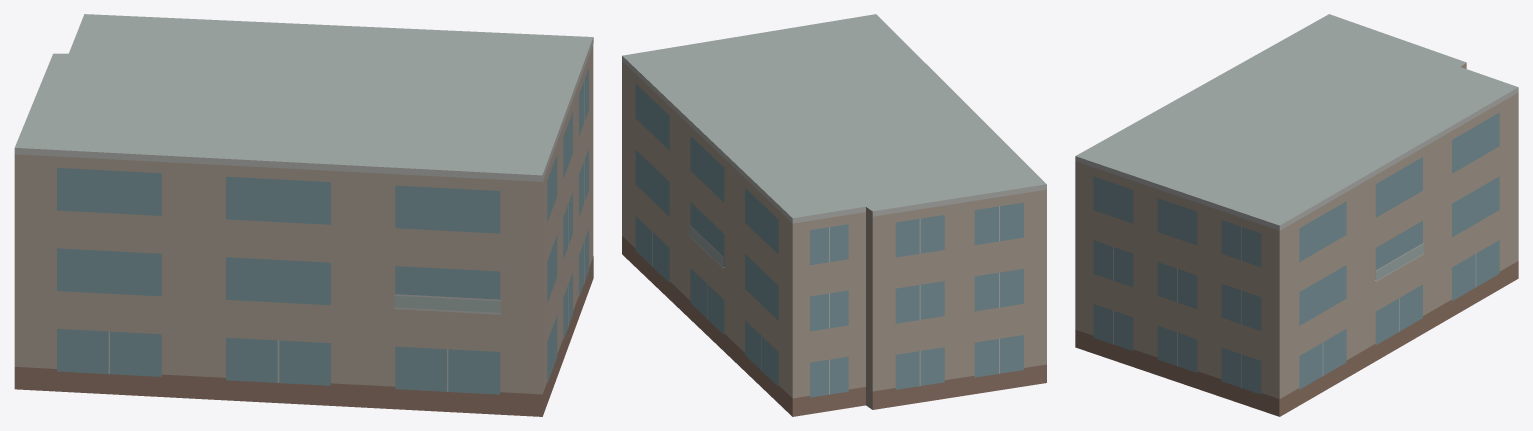
File: survey-upis-32815922.glb
3 renders of one model, left to right at view 1: azimuth 30°, elevation 25°; view 2: azimuth 150°, elevation 25°; view 3: azimuth 270°, elevation 25°, orthographic. The views are drawn at different scales.
Parts seen in each view (by area): view 1: survey-upis-32815922.tmp; view 2: survey-upis-32815922.tmp; view 3: survey-upis-32815922.tmp.
Boxes of the visible parts, x1,y1,x2,y2 form: survey-upis-32815922.tmp: (14, 14, 593, 416); survey-upis-32815922.tmp: (622, 14, 1046, 416); survey-upis-32815922.tmp: (1075, 14, 1518, 416).
Size of the model in its own units: 21.72 by 9.15 by 19.23.
